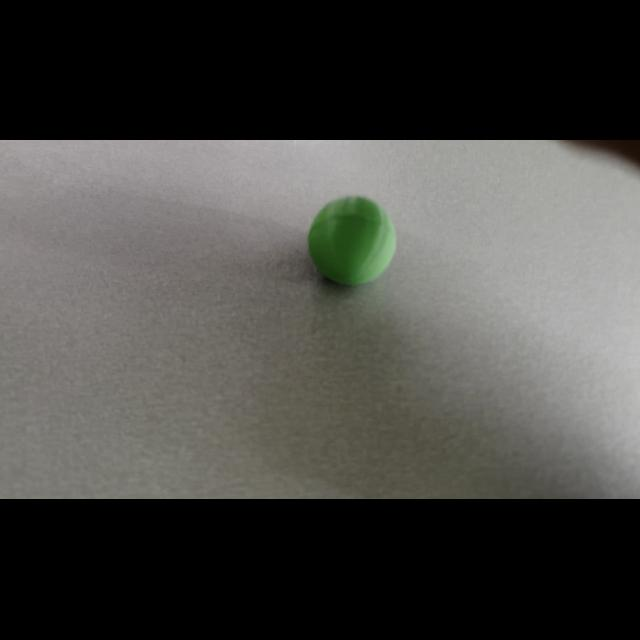objects: (303, 192, 401, 292)
